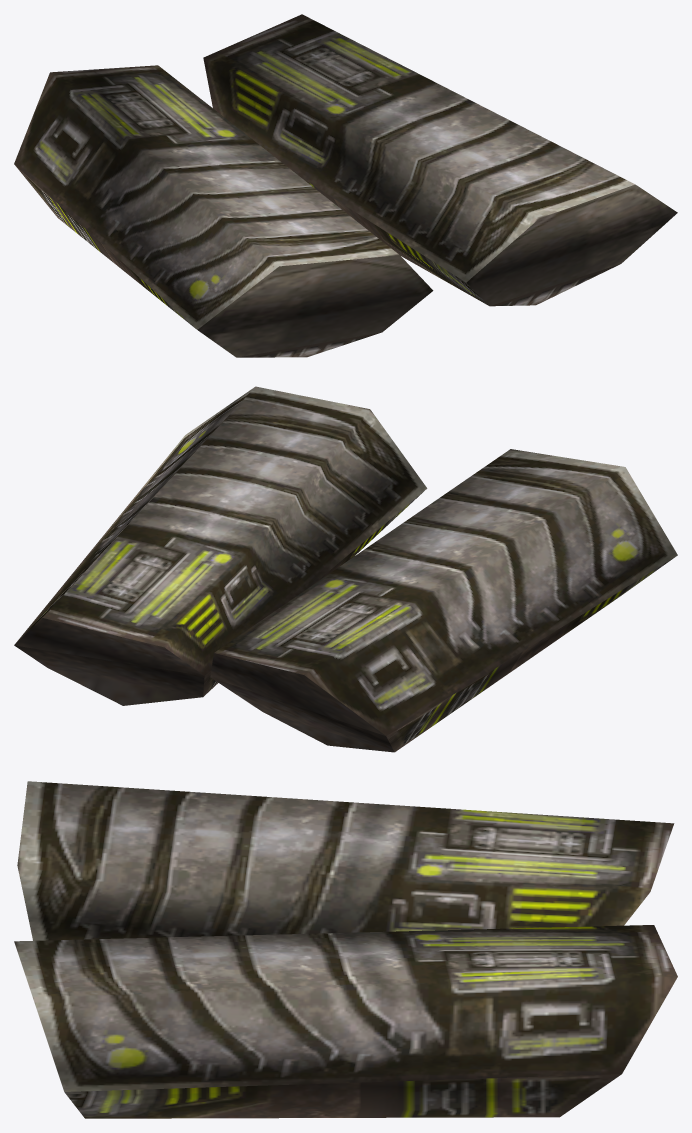
File: ArmPads3.glb
3 views of the same model, one above another, from view 1: azimuth 30°, elevation 25°; view 2: azimuth 150°, elevation 25°; view 3: azimuth 270°, elevation 25° (orthographic). The views are drawn at different scales.
Visible parts, largest first — view 1: ArmPads3; view 2: ArmPads3; view 3: ArmPads3.
Boxes of the visible parts, x1,y1,x2,y2 form: ArmPads3: (14,14,677,357); ArmPads3: (14,386,677,752); ArmPads3: (14,781,677,1118).
Size of the model in its own units: 16.62 by 4.54 by 16.68.
1 material, 1 textured.
